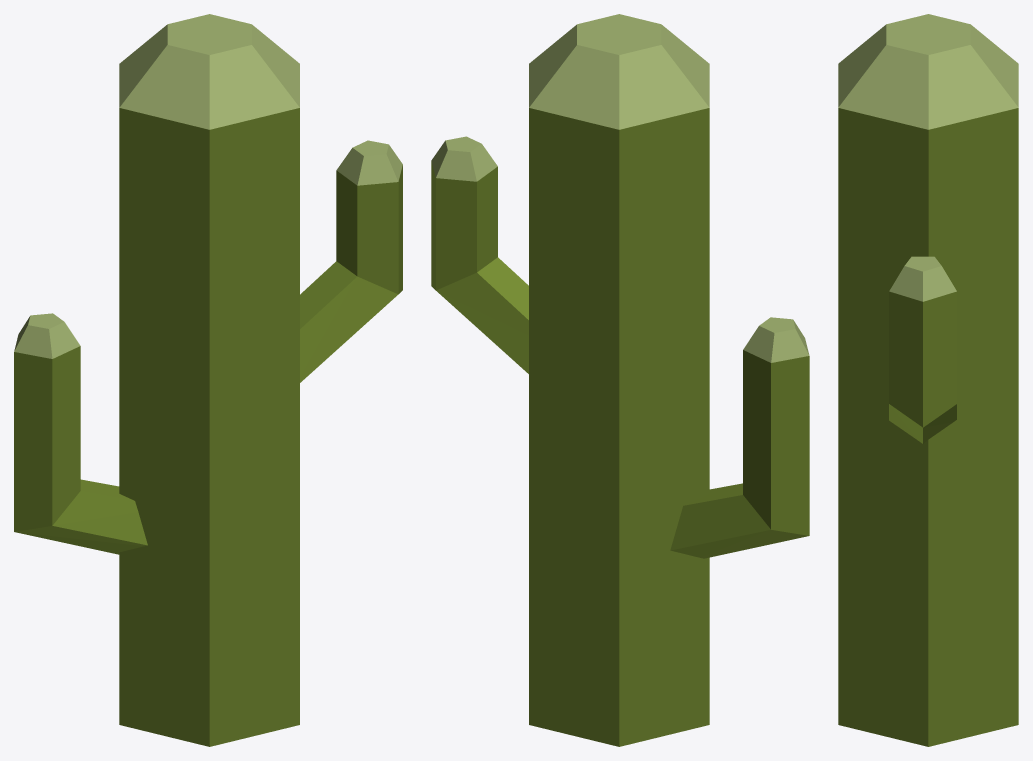
The model's file is TB_D_Env_CactusB_A.FBX.
3 views of the same model, side by side, from view 1: azimuth 30°, elevation 25°; view 2: azimuth 150°, elevation 25°; view 3: azimuth 270°, elevation 25° (orthographic).
Parts seen in each view (by area): view 1: TB_D_Env_CactusB_A; view 2: TB_D_Env_CactusB_A; view 3: TB_D_Env_CactusB_A.
Boxes of the visible parts, <box> form: TB_D_Env_CactusB_A: <box>14,14,402,746</box>; TB_D_Env_CactusB_A: <box>431,14,809,746</box>; TB_D_Env_CactusB_A: <box>838,14,1018,746</box>.
Size of the model in its own units: 1.42 by 2.37 by 0.5799.
